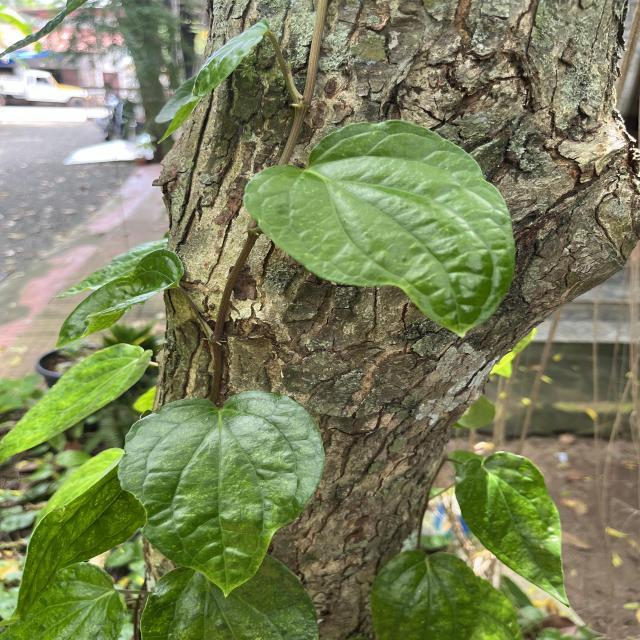Piper betle: (112, 387, 328, 602)
